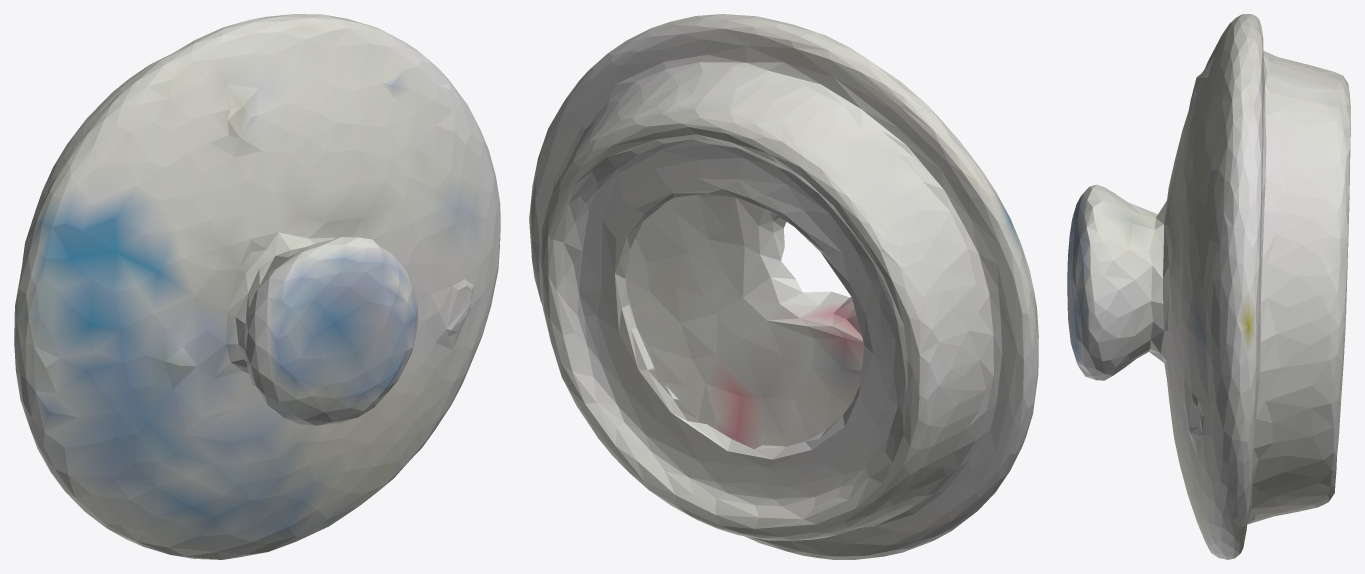
The picture shows the model from 3 angles, left to right: view 1: azimuth 30°, elevation 25°; view 2: azimuth 150°, elevation 25°; view 3: azimuth 270°, elevation 25°; orthographic projection. The views are drawn at different scales.
Visible parts, largest first — view 1: scan.ply; view 2: scan.ply; view 3: scan.ply.
Part boxes in pixels (x1,y1,x2,y2): scan.ply: [14, 14, 500, 559]; scan.ply: [529, 14, 1038, 559]; scan.ply: [1067, 14, 1350, 559].
Bounding box in the file's own units: 0.0827 × 0.0847 × 0.0436.
